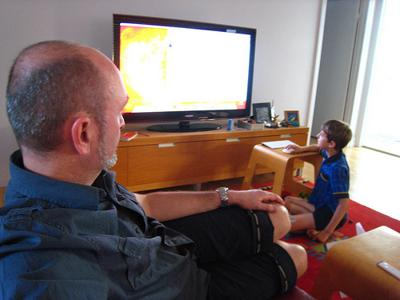person: (7, 43, 309, 300)
